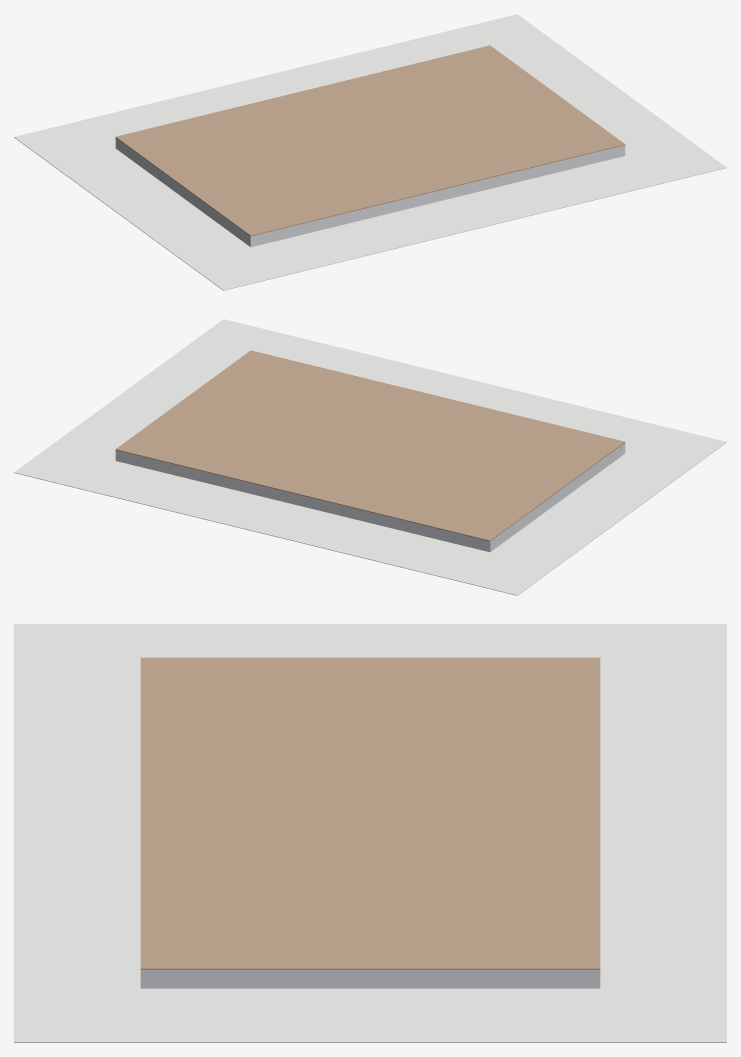
The picture shows the model from 3 angles, top to bottom: view 1: azimuth 30°, elevation 25°; view 2: azimuth 150°, elevation 25°; view 3: azimuth 270°, elevation 25°; orthographic projection. The views are drawn at different scales.
Parts seen in each view (by area): view 1: ROOF-B-1, GROUND, B-1; view 2: ROOF-B-1, GROUND, B-1; view 3: GROUND, ROOF-B-1, B-1.
Part boxes in pixels (bbox=[...]): ROOF-B-1: bbox=[115, 45, 625, 236]; GROUND: bbox=[14, 14, 726, 290]; B-1: bbox=[115, 138, 625, 247]; ROOF-B-1: bbox=[115, 350, 625, 541]; GROUND: bbox=[14, 319, 726, 595]; B-1: bbox=[115, 443, 625, 552]; GROUND: bbox=[14, 624, 726, 1042]; ROOF-B-1: bbox=[140, 657, 600, 969]; B-1: bbox=[140, 970, 600, 988].
Size of the model in its own units: 195 by 4.56 by 141.
